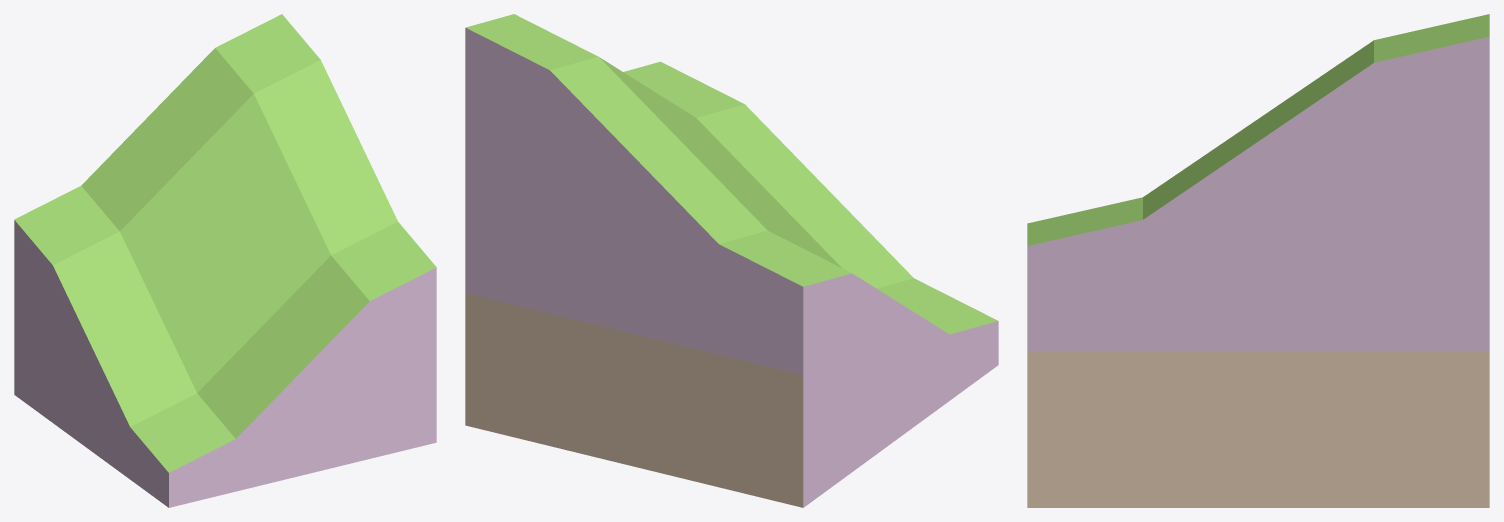
Rendered from Grass_Hill_Sharp_Overlapping_Sharp_2x2.fbx.
The picture shows the model from 3 angles, left to right: view 1: azimuth 30°, elevation 25°; view 2: azimuth 150°, elevation 25°; view 3: azimuth 270°, elevation 25°; orthographic projection. The views are drawn at different scales.
Visible parts, largest first — view 1: Grass_Hill_Sharp_Overlapping_Sharp_2x2; view 2: Grass_Hill_Sharp_Overlapping_Sharp_2x2; view 3: Grass_Hill_Sharp_Overlapping_Sharp_2x2.
Part boxes in pixels (x1,y1,x2,y2): Grass_Hill_Sharp_Overlapping_Sharp_2x2: (14,14,436,507); Grass_Hill_Sharp_Overlapping_Sharp_2x2: (465,14,998,507); Grass_Hill_Sharp_Overlapping_Sharp_2x2: (1027,14,1489,507).
Size of the model in its own units: 200 by 225 by 200.
